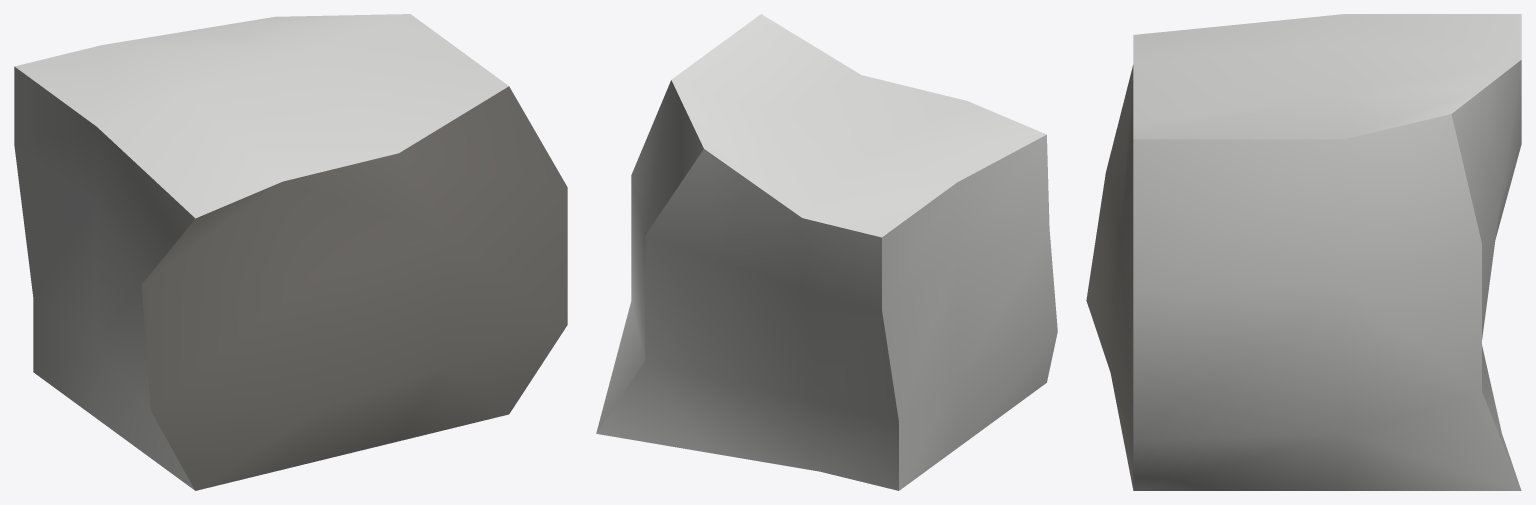
The model's file is nuevoruinas6contextura.fbx.
3 renders of one model, left to right at view 1: azimuth 30°, elevation 25°; view 2: azimuth 150°, elevation 25°; view 3: azimuth 270°, elevation 25°, orthographic. The views are drawn at different scales.
Visible parts, largest first — view 1: pCube1; view 2: pCube1; view 3: pCube1.
Part boxes in pixels (bbox=[...]): pCube1: bbox=[14, 14, 567, 490]; pCube1: bbox=[596, 14, 1057, 490]; pCube1: bbox=[1086, 14, 1521, 490].
Bounding box in the file's own units: 32.4 × 25.38 × 28.45.
1 material, 1 textured.
